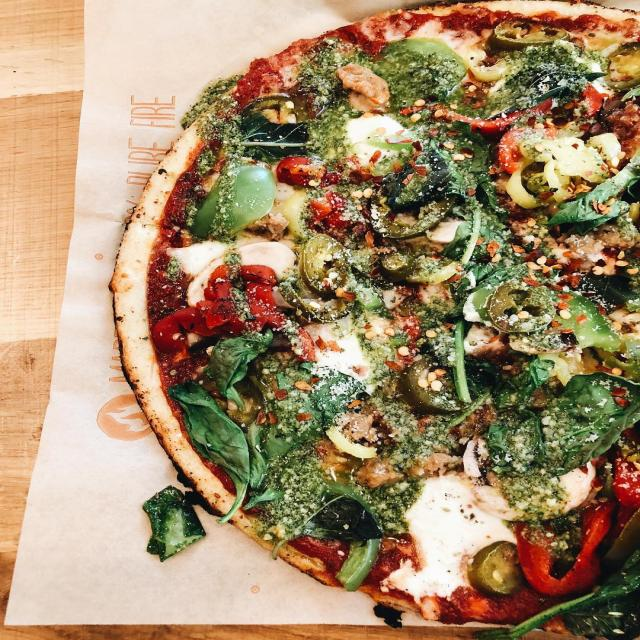peppers: (143, 261, 284, 338), (512, 502, 607, 596), (540, 286, 627, 355), (268, 154, 392, 189), (436, 100, 544, 135), (500, 122, 562, 171), (307, 191, 373, 232), (343, 532, 379, 590)
pizza: (108, 0, 640, 635)
